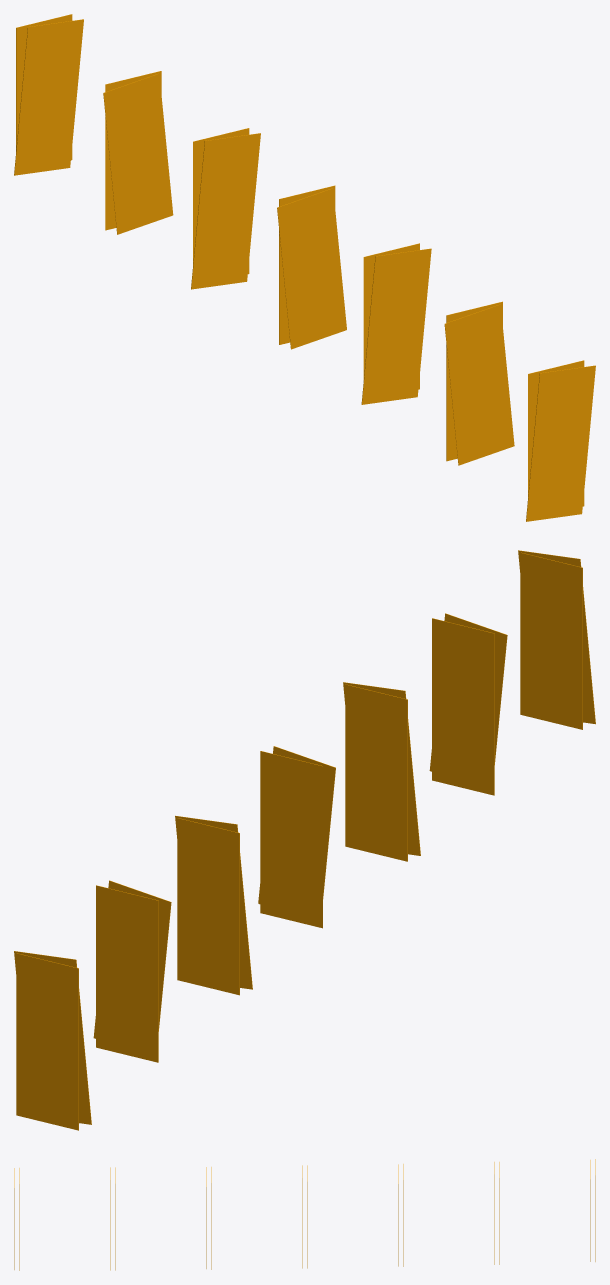
Rendered from fulldetector.gltf.
3 renders of one model, top to bottom at view 1: azimuth 30°, elevation 25°; view 2: azimuth 150°, elevation 25°; view 3: azimuth 270°, elevation 25°, orthographic. The views are drawn at different scales.
Visible parts, largest first — view 1: tagger_active_sensor (×8), tagger_sensor_vol_140, tagger_sensor_vol_40, tagger_sensor_vol_120, tagger_sensor_vol_20, tagger_sensor_vol_100, tagger_sensor_vol_60, tagger_sensor_vol_80, tagger_sensor_vol_50, tagger_sensor_vol_30, tagger_sensor_vol_90, tagger_sensor_vol_110 (+3 smaller); view 2: tagger_active_sensor (×7), tagger_sensor_vol_10, tagger_sensor_vol_50, tagger_sensor_vol_90, tagger_sensor_vol_110, tagger_sensor_vol_130, tagger_sensor_vol_30, tagger_sensor_vol_40, tagger_sensor_vol_120, tagger_sensor_vol_20, tagger_sensor_vol_60, tagger_sensor_vol_140 (+3 smaller); view 3: no part large enough to name.
Boxes of the visible parts, x1=… form: tagger_active_sensor (×8): x1=16, y1=26, x2=594, y2=518; tagger_sensor_vol_140: x1=14, y1=19, x2=83, y2=175; tagger_sensor_vol_40: x1=444, y1=304, x2=514, y2=465; tagger_sensor_vol_120: x1=103, y1=73, x2=173, y2=234; tagger_sensor_vol_20: x1=526, y1=365, x2=595, y2=521; tagger_sensor_vol_100: x1=191, y1=133, x2=260, y2=289; tagger_sensor_vol_60: x1=361, y1=248, x2=431, y2=404; tagger_sensor_vol_80: x1=277, y1=188, x2=346, y2=349; tagger_sensor_vol_50: x1=363, y1=243, x2=419, y2=389; tagger_sensor_vol_30: x1=446, y1=301, x2=502, y2=461; tagger_sensor_vol_90: x1=193, y1=128, x2=249, y2=274; tagger_sensor_vol_110: x1=105, y1=71, x2=161, y2=230; tagger_active_sensor (×7): x1=17, y1=559, x2=581, y2=1127; tagger_sensor_vol_10: x1=520, y1=552, x2=582, y2=729; tagger_sensor_vol_50: x1=345, y1=684, x2=407, y2=861; tagger_sensor_vol_90: x1=177, y1=818, x2=239, y2=995; tagger_sensor_vol_110: x1=96, y1=885, x2=158, y2=1062; tagger_sensor_vol_130: x1=16, y1=953, x2=78, y2=1130; tagger_sensor_vol_30: x1=432, y1=618, x2=494, y2=795; tagger_sensor_vol_40: x1=429, y1=613, x2=507, y2=771; tagger_sensor_vol_120: x1=93, y1=880, x2=171, y2=1038; tagger_sensor_vol_20: x1=518, y1=550, x2=595, y2=724; tagger_sensor_vol_60: x1=343, y1=682, x2=420, y2=855; tagger_sensor_vol_140: x1=14, y1=951, x2=91, y2=1124.
Size of the model in its own units: 71.07 by 104 by 606.
